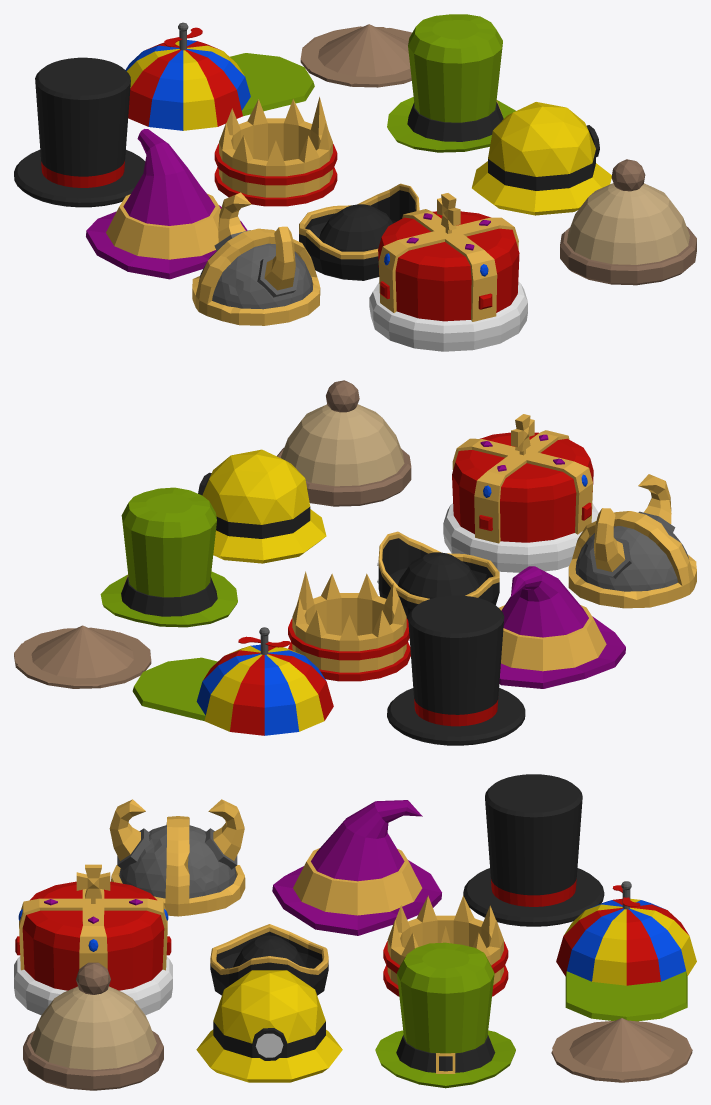
Rendered from Hats.fbx.
3 renders of one model, top to bottom at view 1: azimuth 30°, elevation 25°; view 2: azimuth 150°, elevation 25°; view 3: azimuth 270°, elevation 25°, orthographic.
Visible parts, largest first — view 1: Círculo.002, Hat, Círculo.001, Circle, Hat.002, Helmet.002, Cilindro, Cilindro.002, Hat.001, Hat.003, Esfera.001, Esfera geodésica.004 (+4 smaller); view 2: Círculo.002, Hat, Círculo.001, Circle, Hat.002, Helmet.002, Cilindro, Cilindro.002, Hat.003, Hat.001, Esfera.001, Esfera geodésica.004 (+4 smaller); view 3: Círculo.002, Hat, Círculo.001, Circle, Hat.002, Cilindro, Helmet.002, Hat.003, Hat.001, Cilindro.002, Esfera geodésica.004, Esfera.001 (+5 smaller).
Boxes of the visible parts, x1=… form: Círculo.002: x1=369, y1=209, x2=527, y2=351; Hat: x1=14, y1=57, x2=145, y2=207; Círculo.001: x1=387, y1=14, x2=515, y2=152; Circle: x1=125, y1=22, x2=314, y2=130; Hat.002: x1=86, y1=129, x2=247, y2=279; Helmet.002: x1=472, y1=102, x2=611, y2=215; Cilindro: x1=560, y1=183, x2=696, y2=285; Cilindro.002: x1=219, y1=97, x2=332, y2=197; Hat.001: x1=299, y1=183, x2=419, y2=280; Hat.003: x1=300, y1=24, x2=411, y2=87; Esfera.001: x1=192, y1=228, x2=320, y2=325; Esfera geodésica.004: x1=198, y1=243, x2=312, y2=309; Círculo.002: x1=443, y1=430, x2=598, y2=572; Hat: x1=387, y1=595, x2=525, y2=745; Círculo.001: x1=100, y1=487, x2=237, y2=627; Circle: x1=132, y1=627, x2=333, y2=735; Hat.002: x1=499, y1=566, x2=625, y2=688; Helmet.002: x1=202, y1=449, x2=326, y2=563; Cilindro: x1=277, y1=404, x2=411, y2=506; Cilindro.002: x1=292, y1=571, x2=406, y2=672; Hat.003: x1=14, y1=625, x2=151, y2=688; Hat.001: x1=378, y1=531, x2=499, y2=620; Esfera.001: x1=568, y1=511, x2=696, y2=608; Esfera geodésica.004: x1=575, y1=526, x2=688, y2=591; Círculo.002: x1=14, y1=881, x2=172, y2=1015; Hat: x1=463, y1=774, x2=604, y2=926; Círculo.001: x1=375, y1=942, x2=515, y2=1088; Circle: x1=556, y1=881, x2=696, y2=1021; Hat.002: x1=272, y1=800, x2=441, y2=935; Cilindro: x1=23, y1=986, x2=163, y2=1090; Helmet.002: x1=196, y1=970, x2=342, y2=1082; Hat.003: x1=551, y1=1018, x2=692, y2=1082; Hat.001: x1=210, y1=924, x2=328, y2=995; Cilindro.002: x1=387, y1=895, x2=503, y2=985; Esfera geodésica.004: x1=119, y1=825, x2=236, y2=898; Esfera.001: x1=111, y1=816, x2=245, y2=916.
Size of the model in its own units: 771 by 199 by 969.
